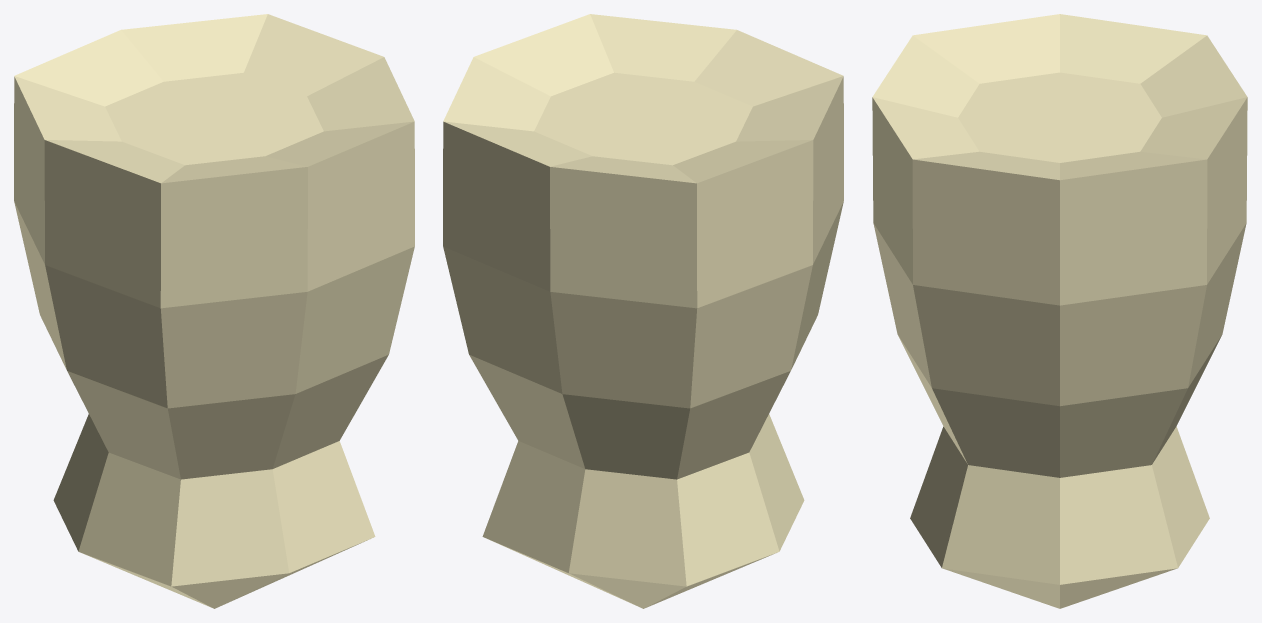
Rendered from content.glb.
The picture shows the model from 3 angles, left to right: view 1: azimuth 30°, elevation 25°; view 2: azimuth 150°, elevation 25°; view 3: azimuth 270°, elevation 25°; orthographic projection.
Parts seen in each view (by area): view 1: Milkshake; view 2: Milkshake; view 3: Milkshake.
Boxes of the visible parts, left/top/right/bottom form: Milkshake: left=14, top=14, right=414, bottom=608; Milkshake: left=443, top=14, right=843, bottom=608; Milkshake: left=872, top=14, right=1247, bottom=608.
Bounding box in the file's own units: 0.1049 × 0.1506 × 0.1001.
1 material, 1 textured.
